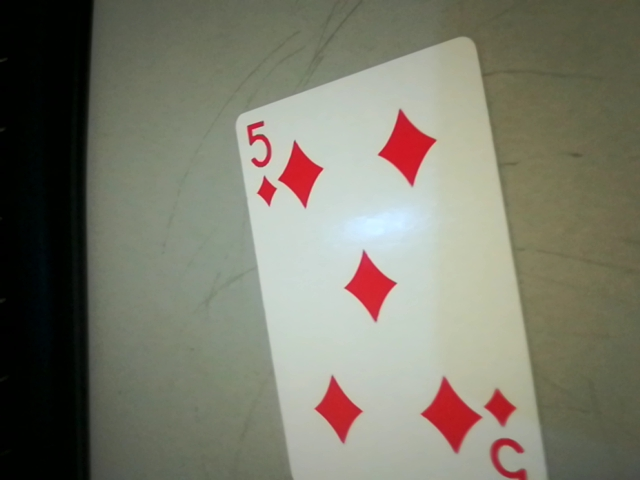fk 5: (476, 381, 539, 480)
